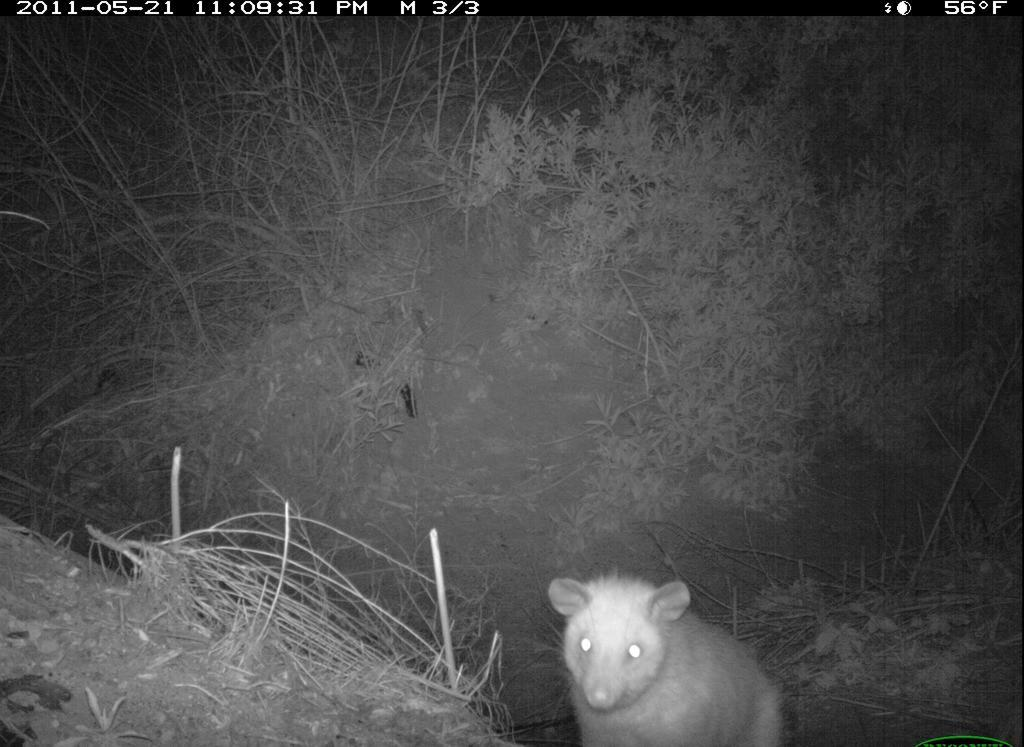opossum: (550, 570, 786, 747)
